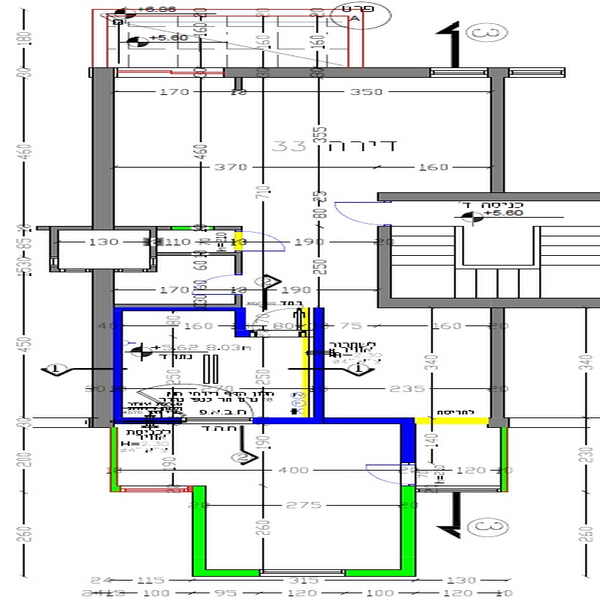door: (175, 369, 243, 429), (247, 301, 305, 342), (330, 194, 384, 231), (364, 461, 421, 491), (237, 229, 289, 259), (193, 273, 244, 295)
room: (81, 54, 516, 190), (187, 413, 420, 584), (112, 300, 330, 427), (307, 294, 508, 425), (377, 190, 600, 308), (391, 407, 518, 499)
wall: (80, 270, 128, 431), (87, 61, 123, 229), (222, 62, 436, 84), (375, 291, 600, 311), (377, 189, 600, 209), (107, 294, 238, 322), (483, 67, 510, 193), (483, 306, 510, 431), (191, 484, 220, 600), (307, 306, 333, 423), (392, 484, 420, 580), (374, 224, 397, 310), (254, 414, 417, 426), (397, 414, 424, 469), (121, 224, 240, 234), (117, 413, 178, 430), (157, 248, 238, 258), (111, 421, 120, 495)
window: (253, 559, 349, 585), (117, 65, 236, 84), (511, 58, 570, 86), (417, 481, 507, 499), (180, 411, 255, 430), (429, 60, 490, 83)
